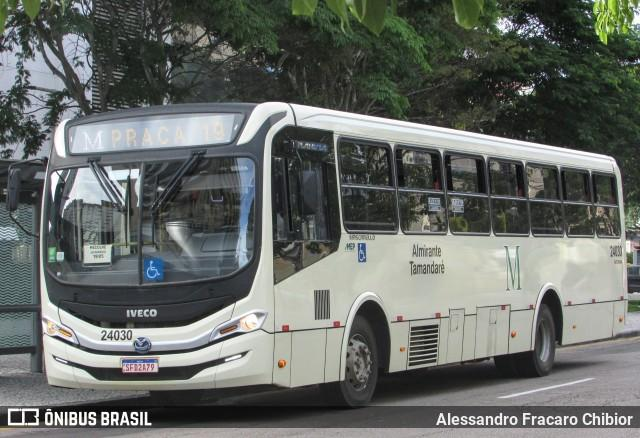PRACA: (107, 119, 190, 154)
